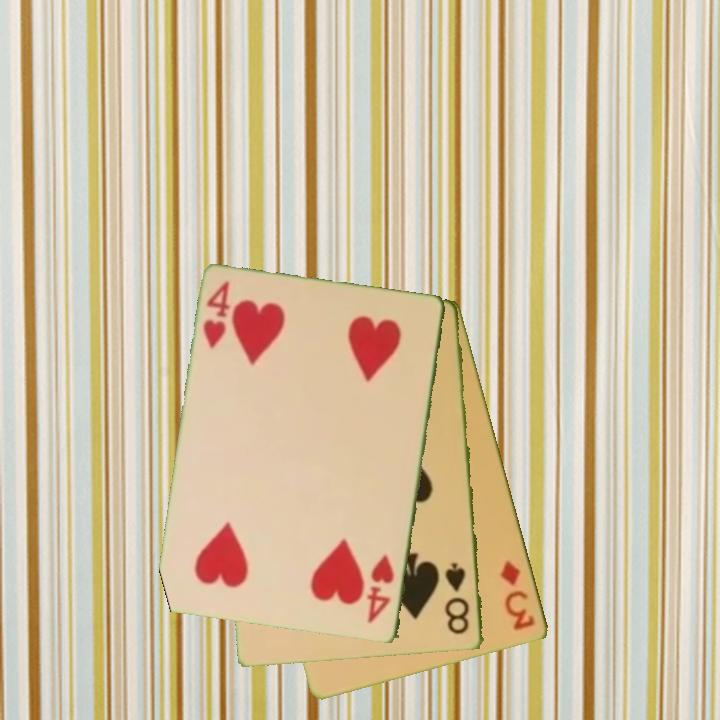3d: (497, 557, 538, 634)
4h: (200, 277, 234, 353), (364, 552, 398, 627)
8s: (442, 560, 473, 638)
